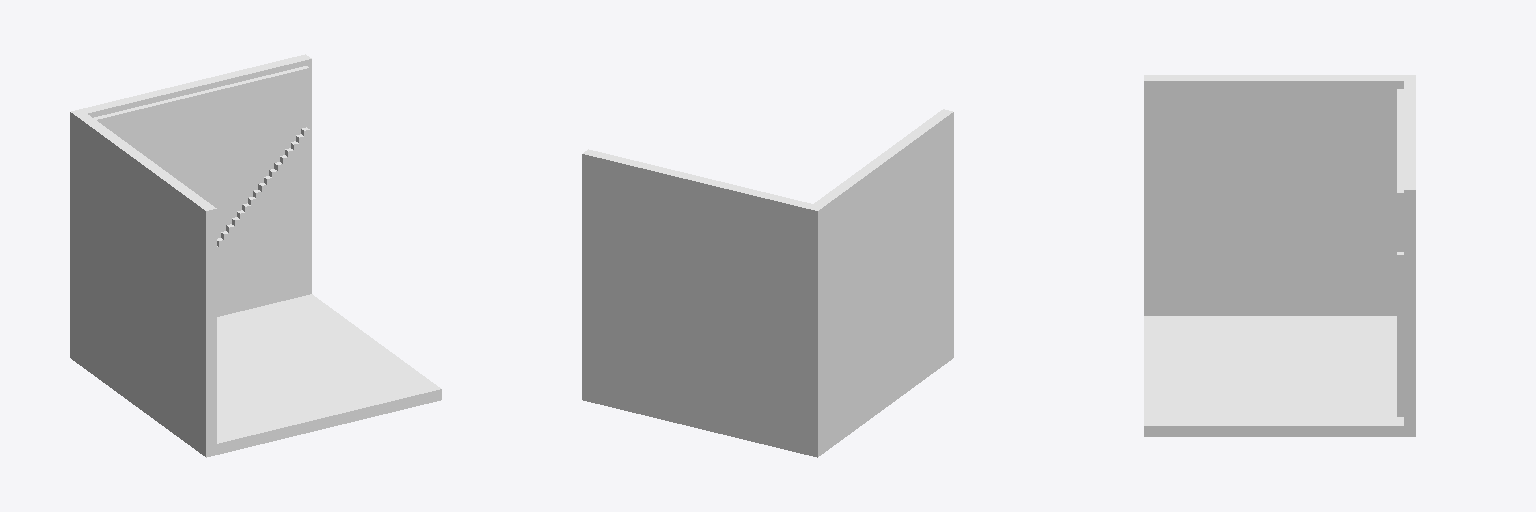
Rendered from mesh_hanger_entrance_left.obj.
The picture shows the model from 3 angles: view 1: azimuth 30°, elevation 25°; view 2: azimuth 150°, elevation 25°; view 3: azimuth 270°, elevation 25°; orthographic projection.
Parts seen in each view (by area): view 1: object 1; view 2: object 1; view 3: object 1.
Boxes of the visible parts, x1,y1,x2,y2 form: object 1: [70, 54, 441, 457]; object 1: [582, 109, 953, 457]; object 1: [1144, 75, 1415, 436].
Size of the model in its own units: 4.4 by 4.4 by 4.4.